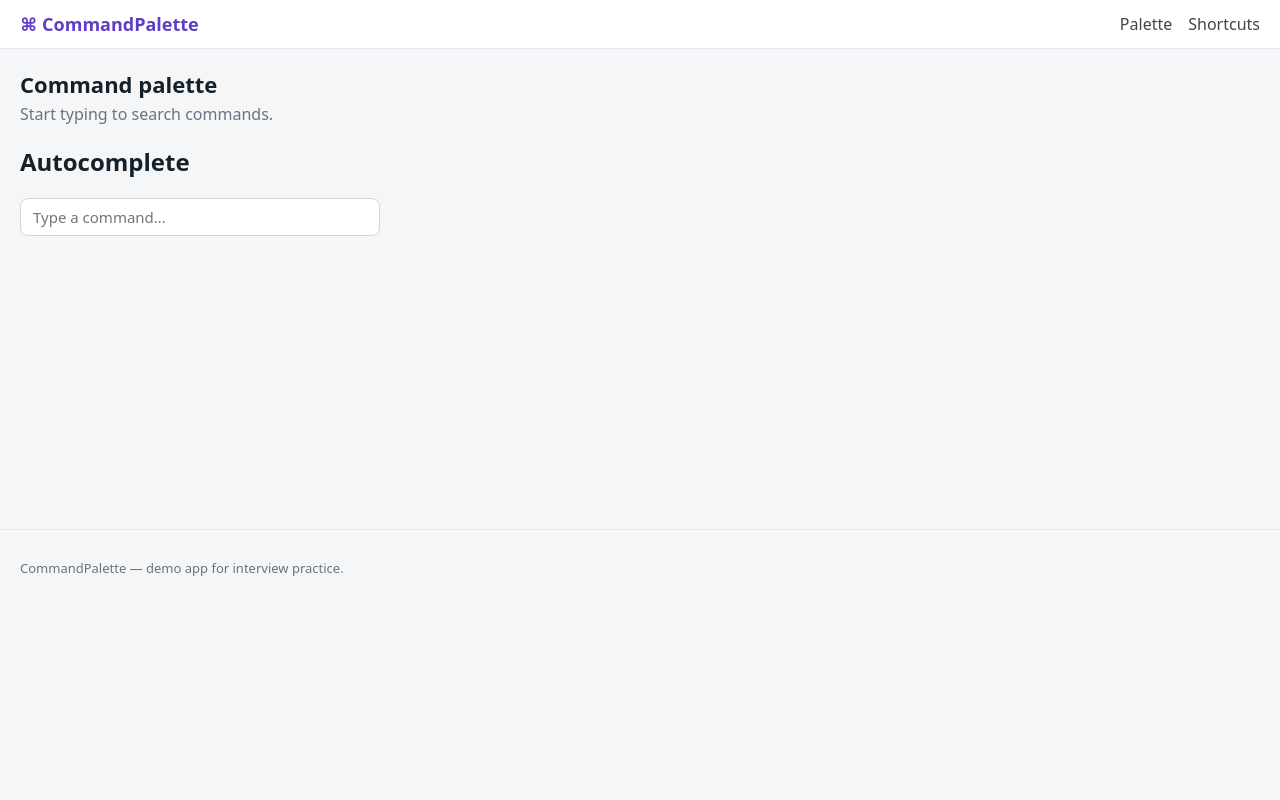
m04 · CommandPalette — app renders › navigates to the Shortcuts route via the navbar
The image size is (1280, 800).
Click the link with test id "nav-shortcuts".
click(1224, 24)  # box [1188, 13, 1260, 35]
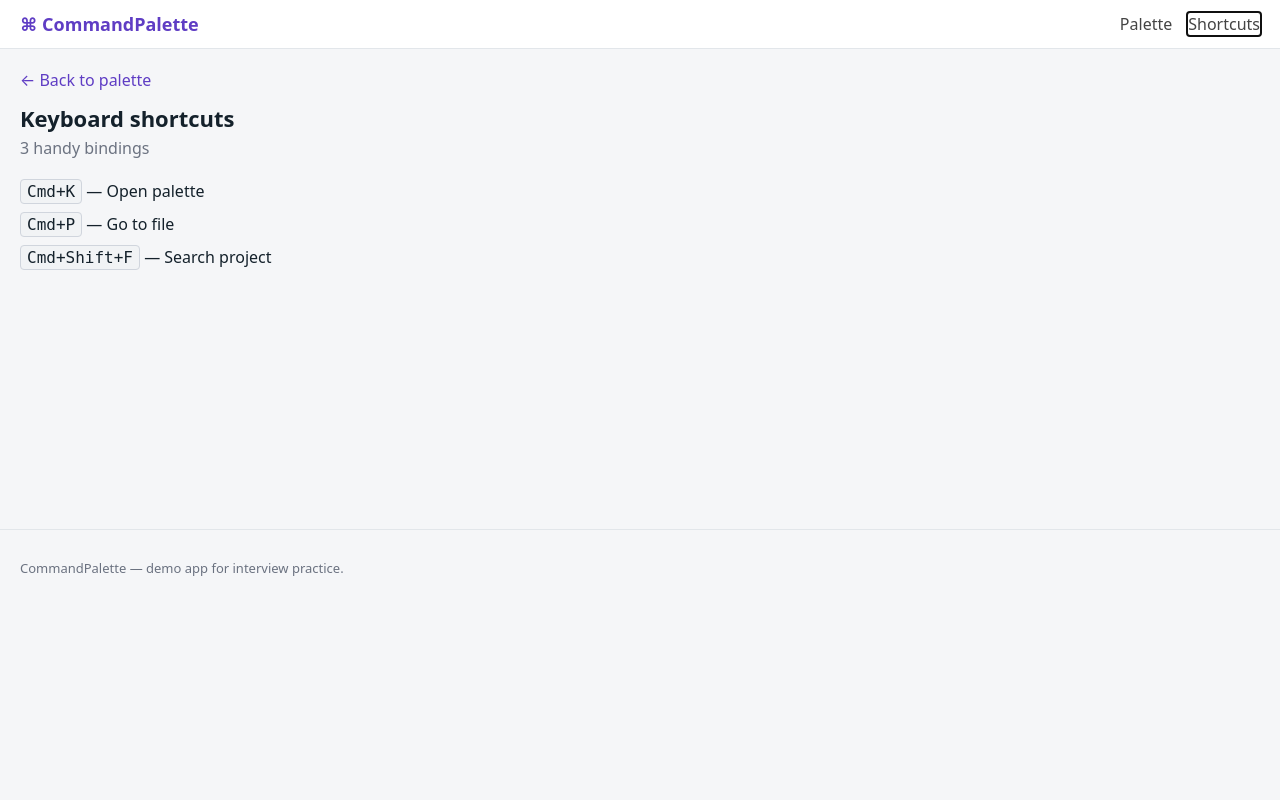
Expected: the element with test id "shortcuts-page" is shown, [20, 69, 272, 270]
